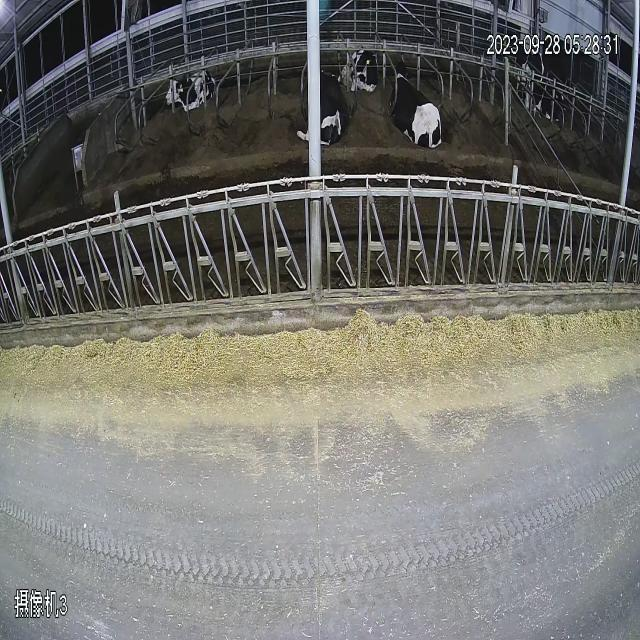lying down: (158, 49, 228, 138), (391, 56, 446, 161), (302, 43, 344, 156), (344, 38, 382, 112), (538, 78, 573, 134)
standing: (506, 26, 544, 128)
